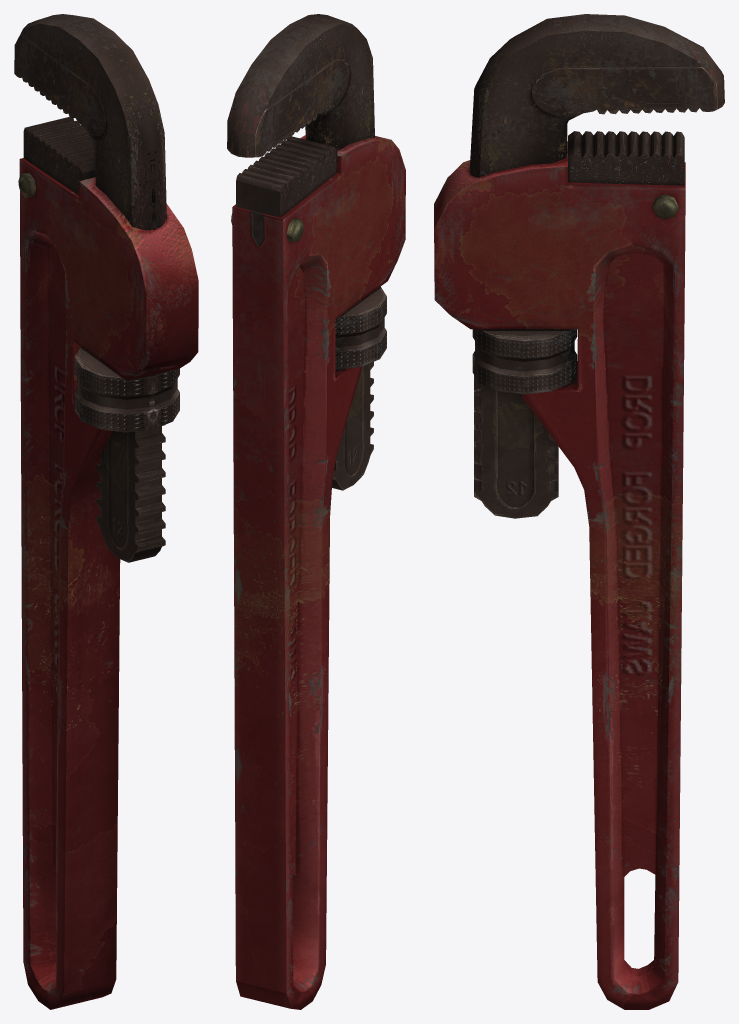
File: schraubenschlüssel.FBX
3 views of the same model, side by side, from view 1: azimuth 30°, elevation 25°; view 2: azimuth 150°, elevation 25°; view 3: azimuth 270°, elevation 25° (orthographic). The views are drawn at different scales.
Parts seen in each view (by area): view 1: Wrench; view 2: Wrench; view 3: Wrench.
Boxes of the visible parts, <box> form: Wrench: <box>14,14,198,1009</box>; Wrench: <box>227,14,405,1009</box>; Wrench: <box>434,14,724,1009</box>.
Size of the model in its own units: 62.62 by 646 by 174.
1 material, 1 textured.
